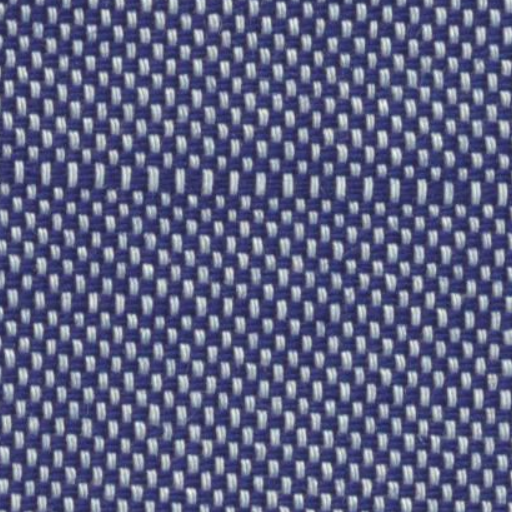TuoSha: (16, 124, 492, 234)
